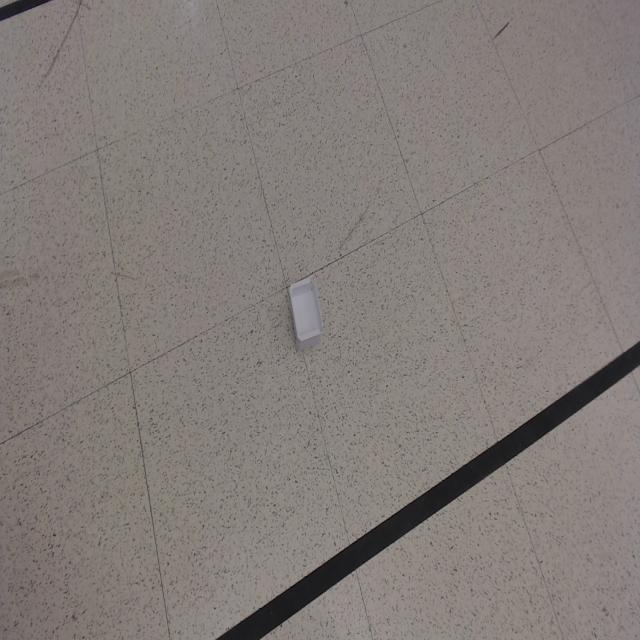wbox: (286, 274, 324, 352)
